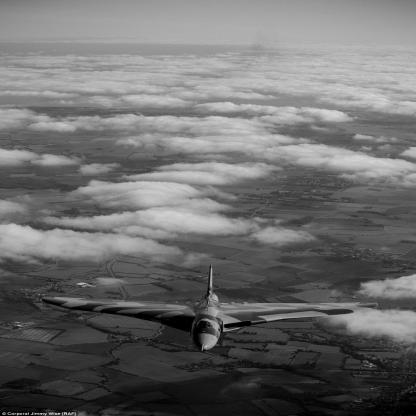Vulcan: (42, 263, 379, 353)
